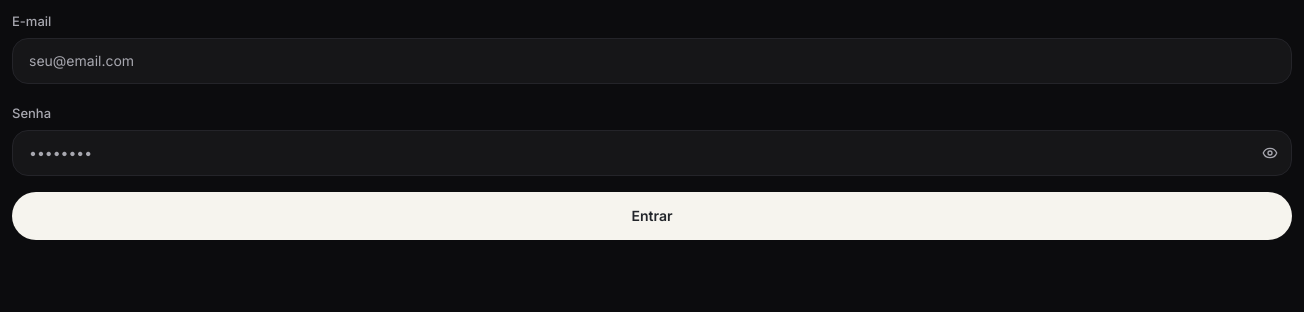
Test: LoginForm › mantém feedback e permite repetir quando há uma falha real de conexão
Type "cliente@example.com" into the field labelled "E-mail" at [652, 60], box [12,38,1292,84]
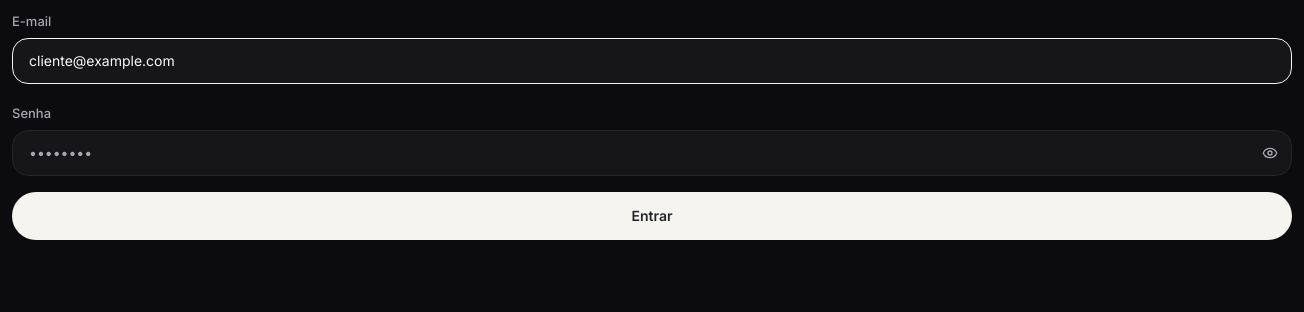
Type "senha-segura" into the password field labelled "Senha" at [652, 152], box [12,130,1292,176]
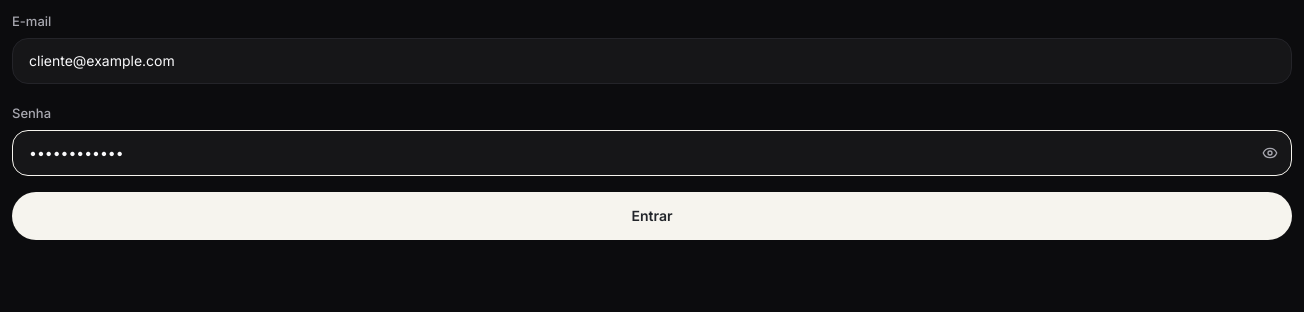
Click the button "Entrar" at [652, 216], box [12,192,1292,240]
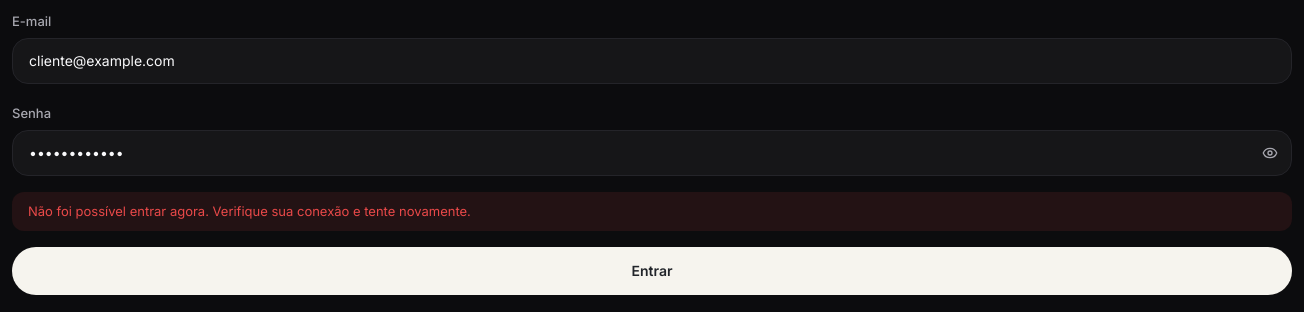
Click the button "Entrar" at [652, 271], box [12,247,1292,295]
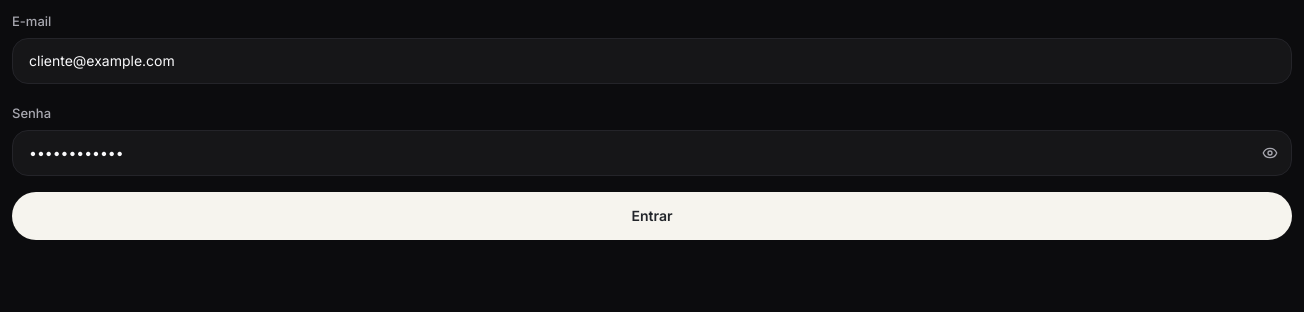
Expected: the message "Não foi possível entrar agora. Verifique sua conexão e tente novamente." is gone
